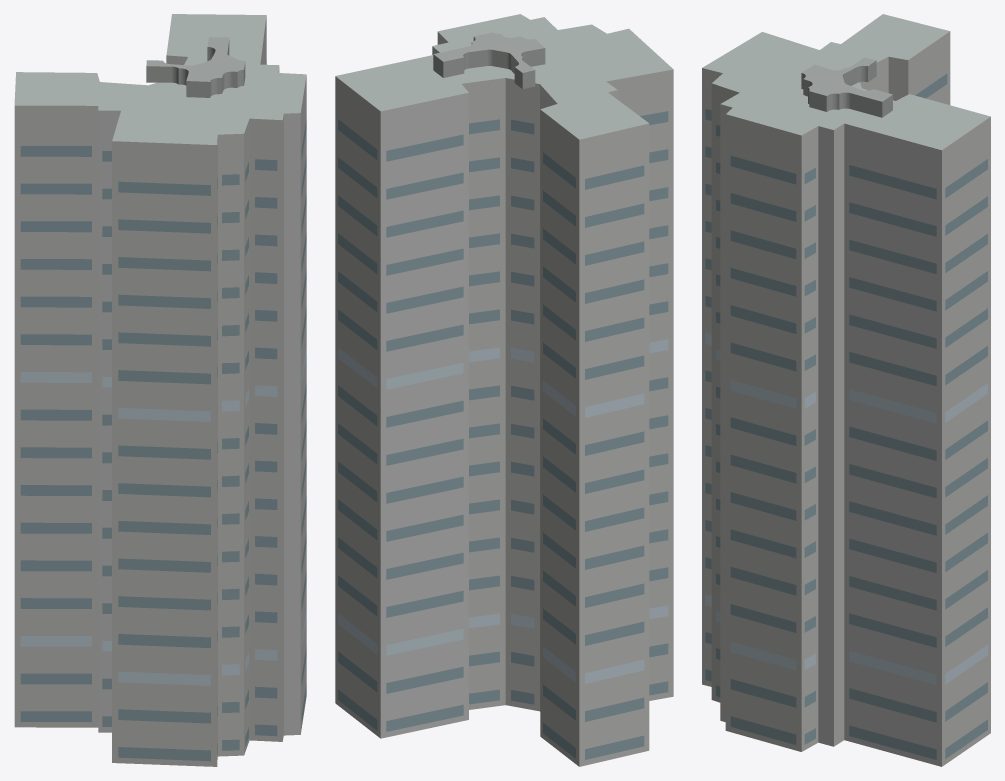
File: fallback-gangdong-lotte-castle-first-107.glb
The picture shows the model from 3 angles, left to right: view 1: azimuth 30°, elevation 25°; view 2: azimuth 150°, elevation 25°; view 3: azimuth 270°, elevation 25°; orthographic projection.
Visible parts, largest first — view 1: fallback-gangdong-lotte-castle-first-107; view 2: fallback-gangdong-lotte-castle-first-107; view 3: fallback-gangdong-lotte-castle-first-107.
Boxes of the visible parts, x1,y1,x2,y2 form: fallback-gangdong-lotte-castle-first-107: (14,14,306,766); fallback-gangdong-lotte-castle-first-107: (335,14,673,766); fallback-gangdong-lotte-castle-first-107: (702,14,990,766).
Size of the model in its own units: 43.91 by 95 by 39.33.
